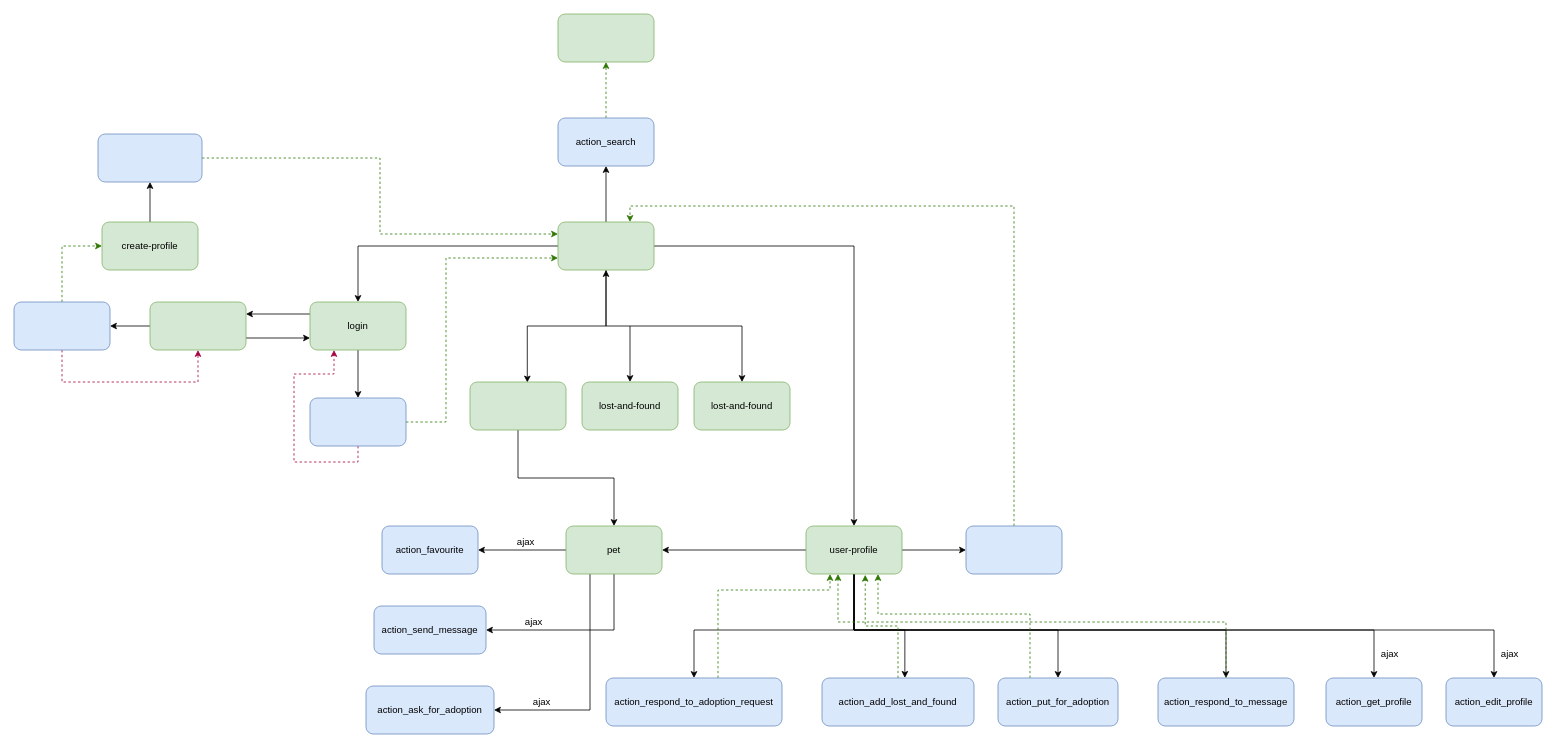
This 1556x748 diagram has some shape labels left out. The shapes that lost their labels are listed below. From the top down, each one's centre as x and y in pixels, then its label:
pixel 605 37: search-results
pixel 149 157: action_create_profile
pixel 605 245: index
pixel 61 325: action_signup
pixel 197 325: register
pixel 357 421: action_login
pixel 517 405: adopt-a-pet
pixel 1013 549: action_logout
